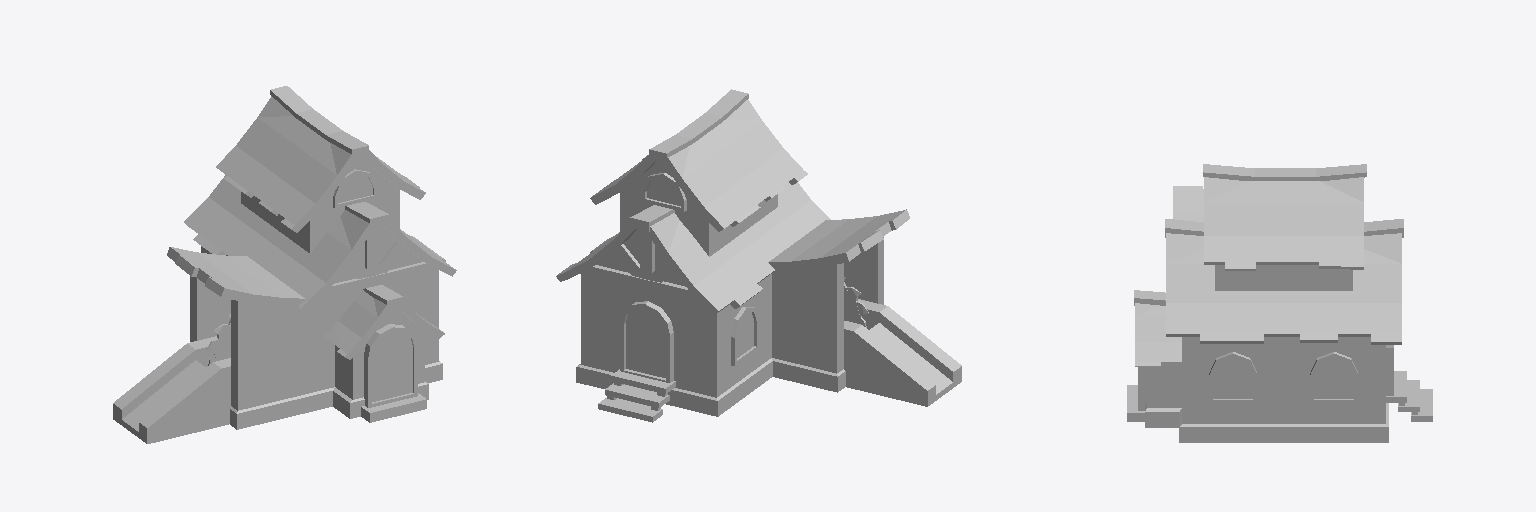
3 views of the same model, side by side, from view 1: azimuth 30°, elevation 25°; view 2: azimuth 150°, elevation 25°; view 3: azimuth 270°, elevation 25° (orthographic).
Parts seen in each view (by area): view 1: Woodmill w_Woodmill w_0; view 2: Woodmill w_Woodmill w_0; view 3: Woodmill w_Woodmill w_0.
Part boxes in pixels (left/top/right/bottom): Woodmill w_Woodmill w_0: left=113, top=86, right=456, bottom=443; Woodmill w_Woodmill w_0: left=556, top=89, right=961, bottom=422; Woodmill w_Woodmill w_0: left=1127, top=164, right=1432, bottom=442.
Size of the model in its own units: 11.41 by 8.66 by 9.97.